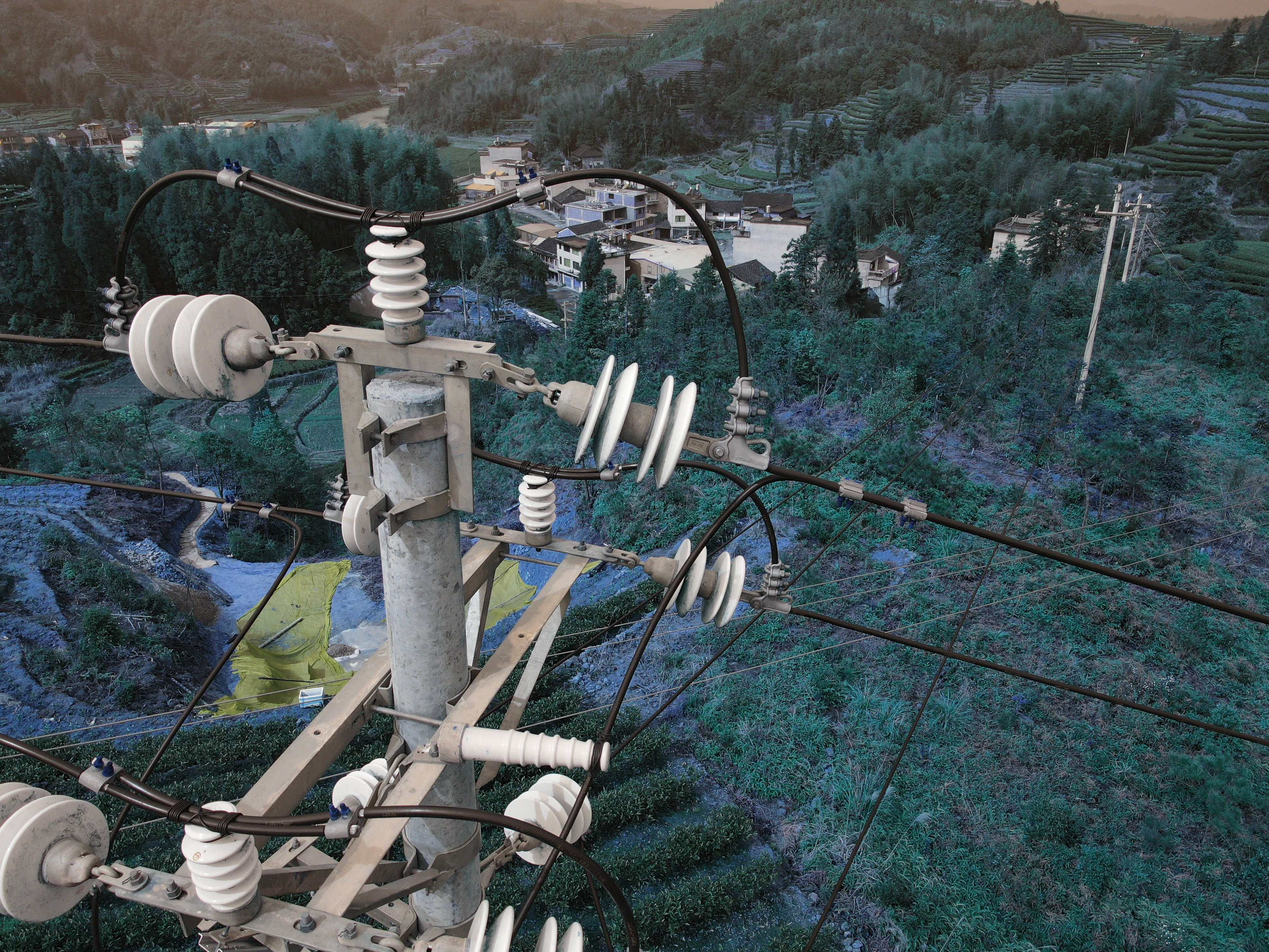severe_soiling_no_discharge_whole: (549, 348, 701, 494), (123, 285, 282, 404), (4, 782, 115, 929), (648, 534, 745, 631), (330, 757, 389, 808)
